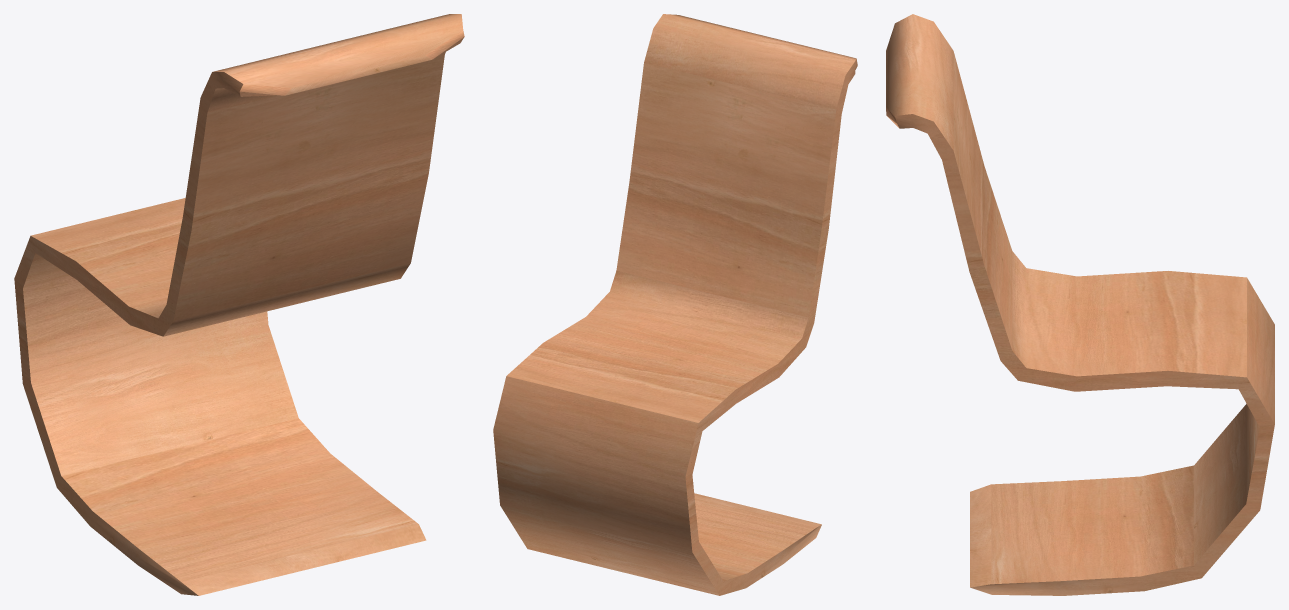
The model's file is FUR0210022.fbx.
3 renders of one model, left to right at view 1: azimuth 30°, elevation 25°; view 2: azimuth 150°, elevation 25°; view 3: azimuth 270°, elevation 25°, orthographic. The views are drawn at different scales.
Visible parts, largest first — view 1: smFUR0210022; view 2: smFUR0210022; view 3: smFUR0210022.
Boxes of the visible parts, x1,y1,x2,y2 form: smFUR0210022: (14, 14, 464, 595); smFUR0210022: (493, 14, 857, 595); smFUR0210022: (886, 14, 1274, 595).
Bounding box in the file's own units: 50.84 × 113 × 82.68.
1 material, 1 textured.
